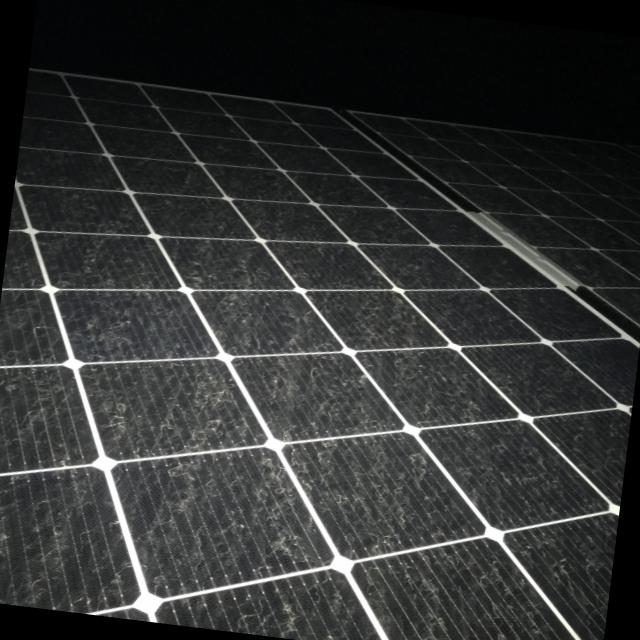faulty: (0, 71, 625, 640)
